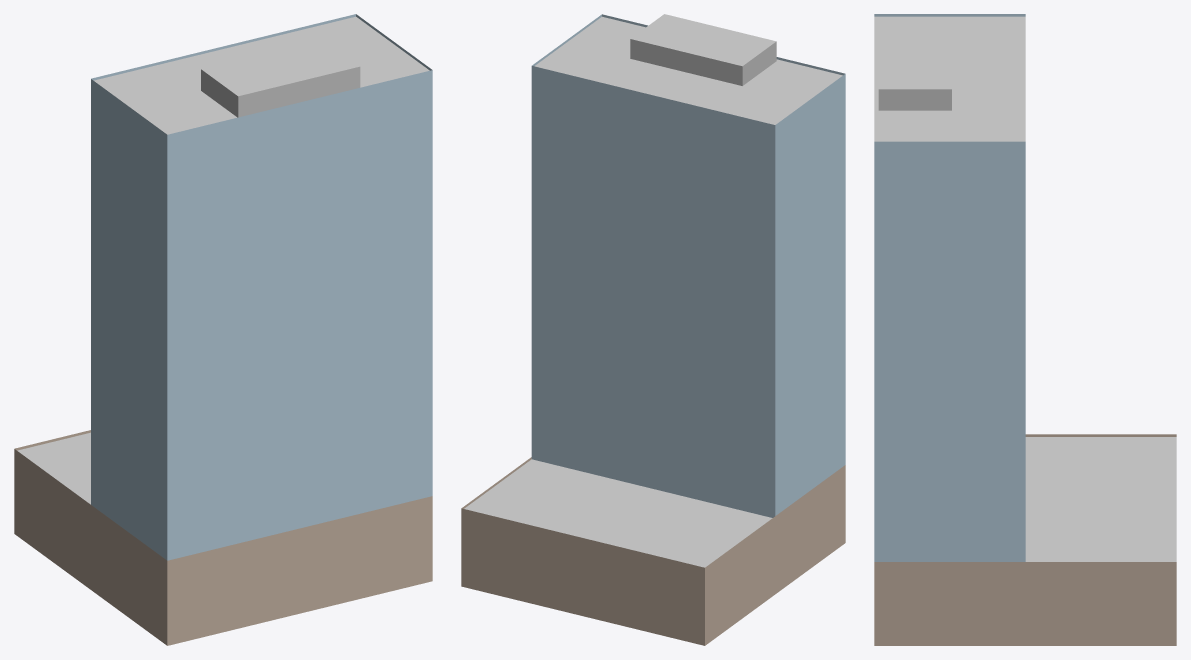
The picture shows the model from 3 angles, left to right: view 1: azimuth 30°, elevation 25°; view 2: azimuth 150°, elevation 25°; view 3: azimuth 270°, elevation 25°; orthographic projection. The views are drawn at different scales.
Visible parts, largest first — view 1: Object_4, Object_5, Object_2, Object_1, Object_3; view 2: Object_4, Object_5, Object_3, Object_2, Object_1; view 3: Object_4, Object_5, Object_3, Object_2, Object_1.
Boxes of the visible parts, bbox=[...] form: Object_4: bbox=[91, 14, 432, 560]; Object_5: bbox=[14, 430, 432, 645]; Object_2: bbox=[94, 16, 429, 134]; Object_1: bbox=[201, 39, 360, 117]; Object_3: bbox=[17, 432, 90, 504]; Object_4: bbox=[531, 14, 845, 517]; Object_5: bbox=[461, 457, 845, 645]; Object_3: bbox=[464, 459, 772, 567]; Object_2: bbox=[534, 16, 842, 124]; Object_1: bbox=[630, 14, 776, 85]; Object_4: bbox=[874, 14, 1025, 561]; Object_5: bbox=[874, 434, 1176, 645]; Object_3: bbox=[1025, 437, 1176, 561]; Object_2: bbox=[874, 16, 1025, 141]; Object_1: bbox=[878, 30, 951, 110].
Bounding box in the file's own units: 1283 × 1283 × 2450.
